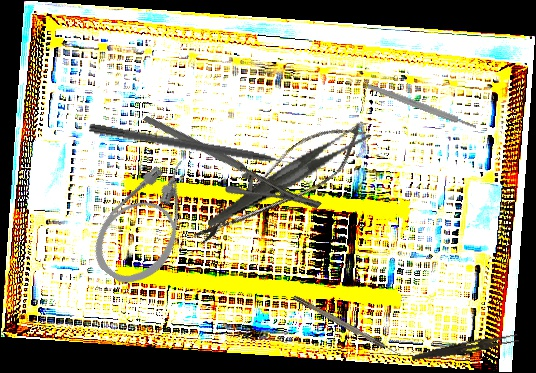Cannula: (80, 146, 220, 297)
Dressing Forceps: (193, 119, 383, 229), (411, 330, 519, 366)
Hook Surgical: (292, 294, 404, 359)
Micro Scissor: (183, 106, 378, 263)
Needle Holder: (142, 70, 323, 253)
Pusher: (87, 122, 312, 174)
Scalpel Handle: (366, 82, 478, 131)
